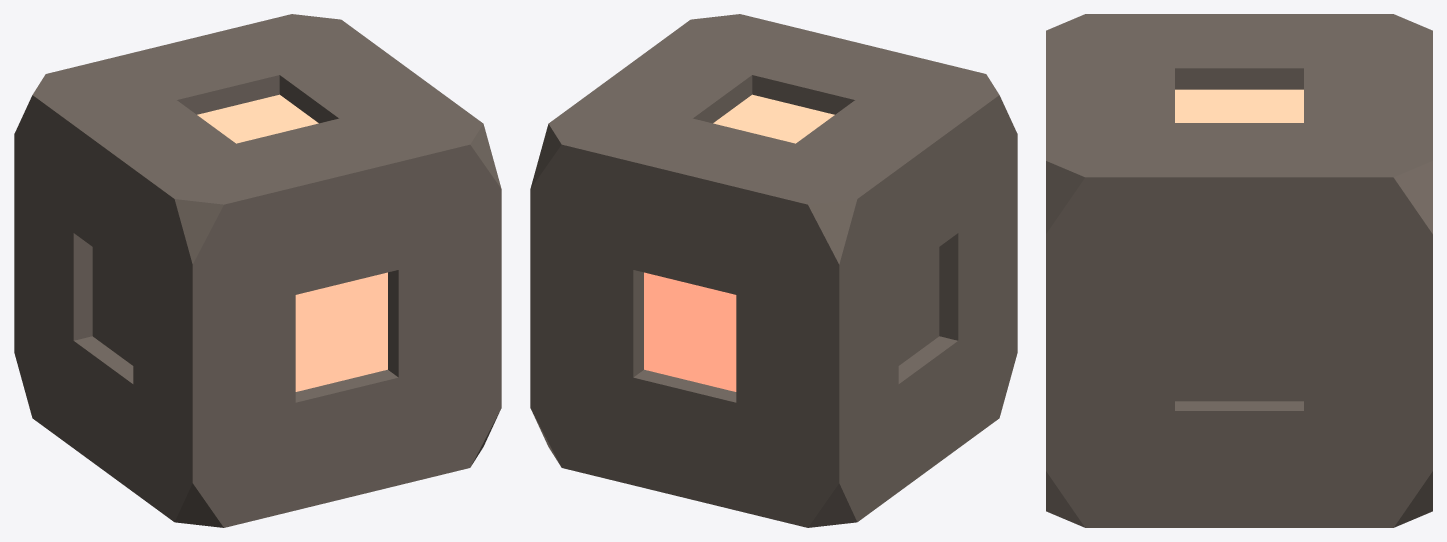
The model's file is red_sphinx.gltf.
3 renders of one model, left to right at view 1: azimuth 30°, elevation 25°; view 2: azimuth 150°, elevation 25°; view 3: azimuth 270°, elevation 25°, orthographic. The views are drawn at different scales.
Visible parts, largest first — view 1: Plane.016; view 2: Plane.016; view 3: Plane.016.
Part boxes in pixels (left/top/right/bottom): Plane.016: left=14, top=14, right=501, bottom=527; Plane.016: left=530, top=14, right=1017, bottom=527; Plane.016: left=1046, top=14, right=1432, bottom=527.
Bounding box in the file's own units: 1.5 × 1.5 × 1.5.
